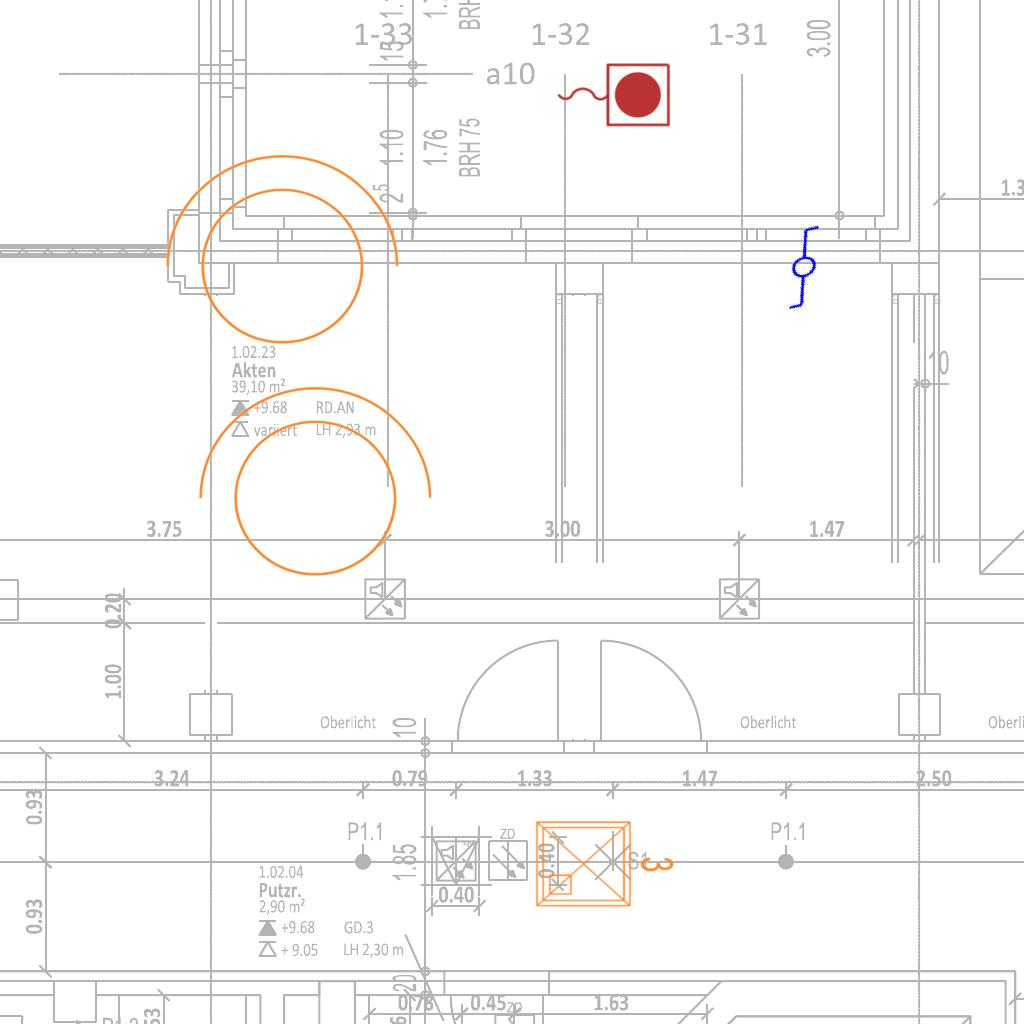Einbaudownlights_LED_Konferenzraeume: (529, 810, 679, 914)
Scheinwerfer_fuer_Alarmbeleuchtung: (177, 376, 441, 601), (144, 144, 408, 369)
Wechselschalter: (756, 215, 860, 317)
Zugtaster: (552, 58, 674, 130)
